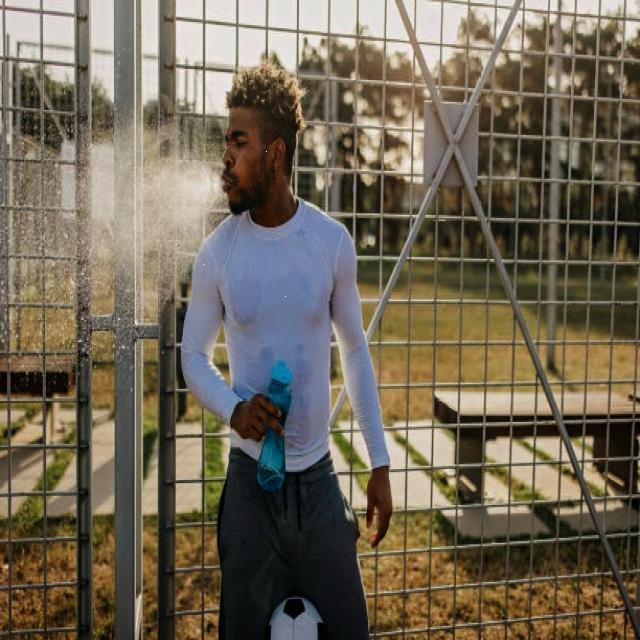Spitting: (159, 67, 303, 325)
